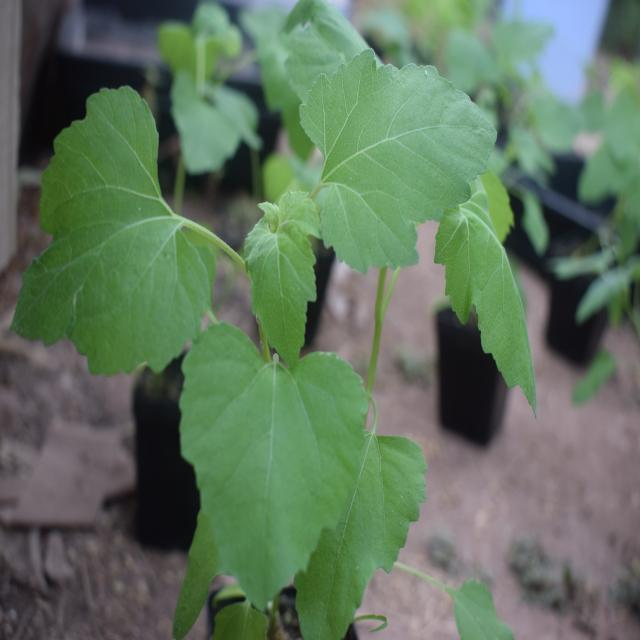cocklebur: (28, 37, 534, 551)
